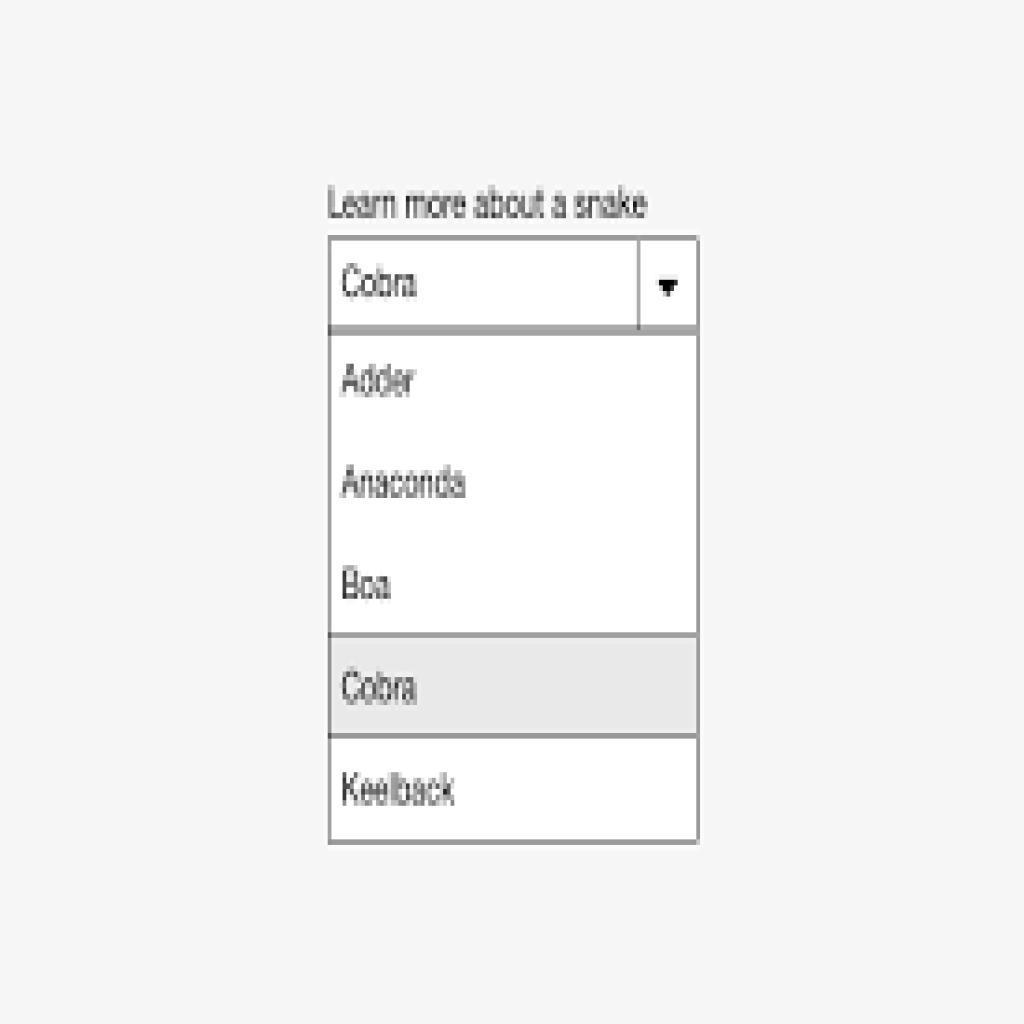button: (329, 633, 702, 736)
dropdown: (329, 235, 699, 333)
